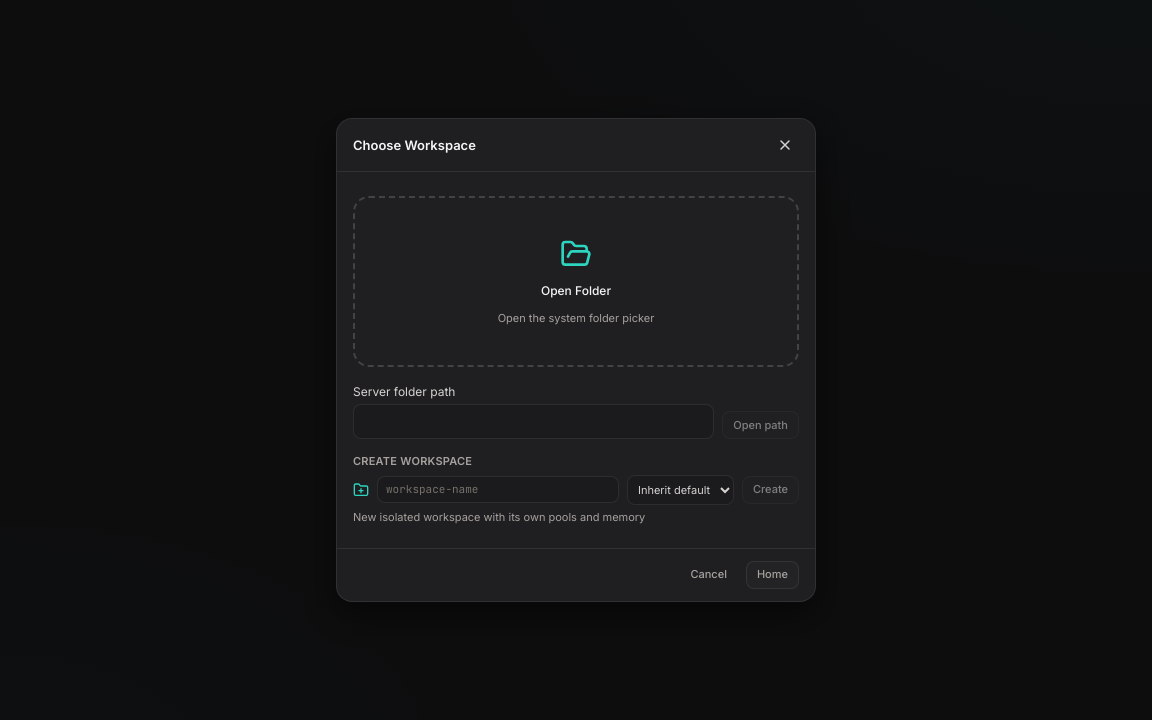
Test case: WorkspaceBrowser › open folder picker › shows error message when picker returns 503 (no display)
What coordinates should you click on to do the following:
click the text "Open Folder"
I would click on:
 (576, 291)
Its box is x1=541 y1=282 x2=611 y2=300.
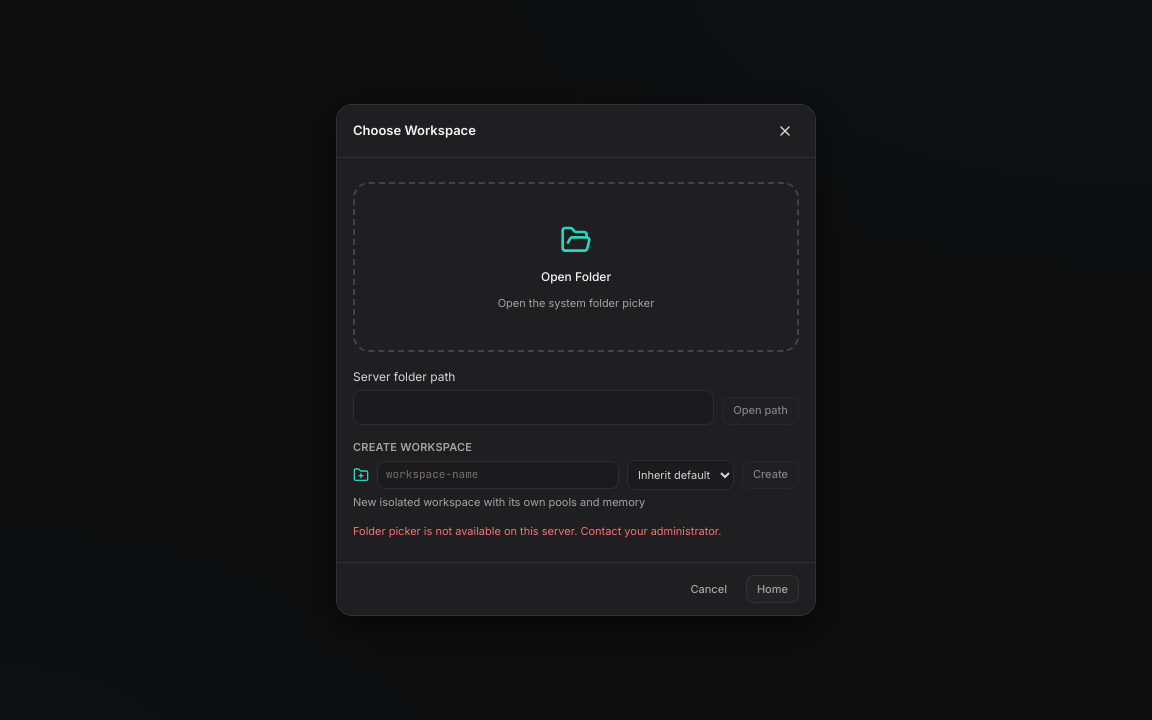
Expected: the text "not available" is shown, x1=353 y1=524 x2=721 y2=538
